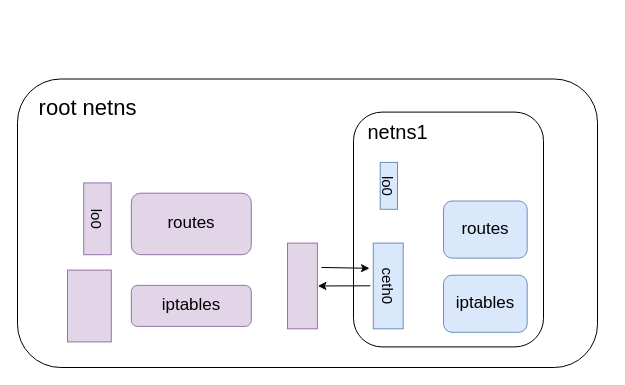
This 625x385 diagram has some shape labels left out. Here are the shapes that lost their labels. From the top down, the box of each, then its label:
(66, 269, 111, 342): eth0
(286, 242, 317, 329): veth0
